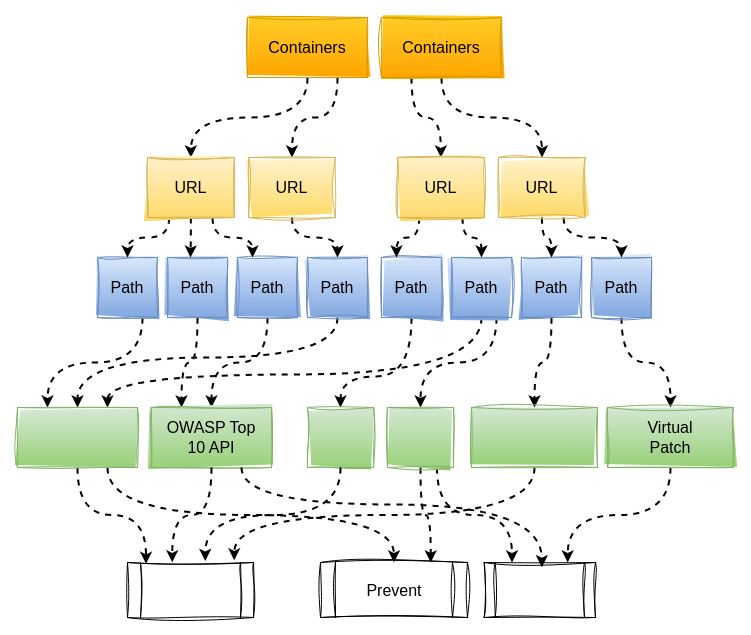
Some shapes in this 751 by 635 pixel diagram are drawn without their labels. The centre of each missing label's shape, as x and y in pixels:
Access Control: (534,437)
Alert: (190,590)
Ban: (539,590)
BoT: (420,437)
DoS: (340,437)
OWASP Top 10 Web: (77,437)
